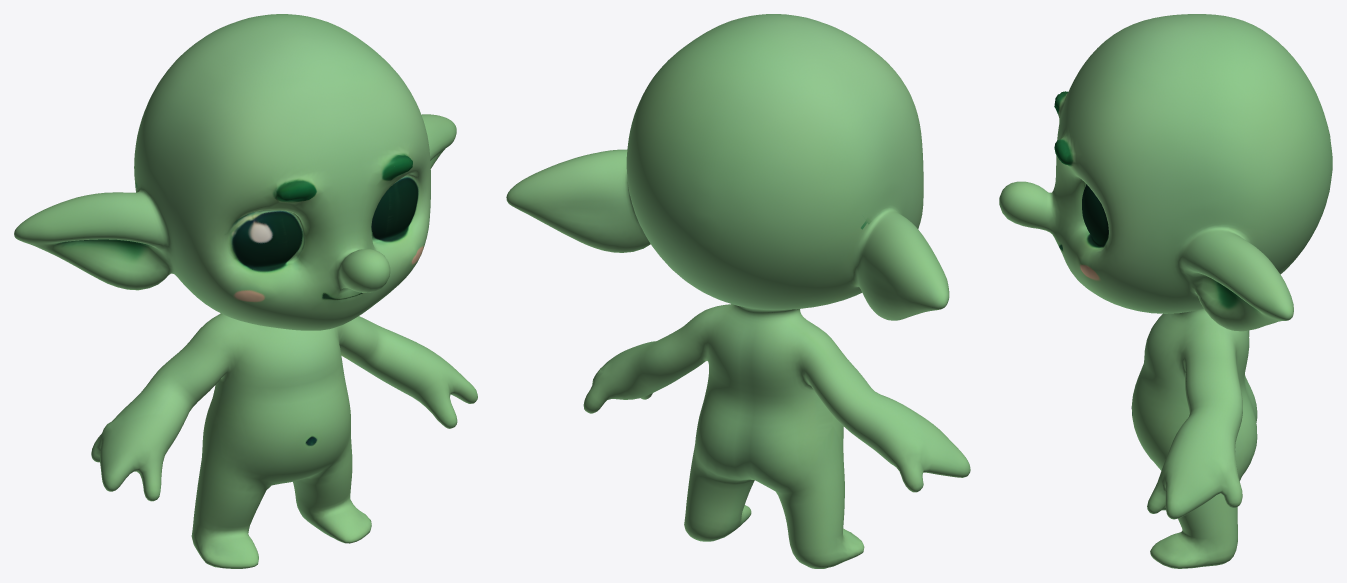
The model's file is gobelin_cartoon_3d_-_personnage_vert.glb.
3 renders of one model, left to right at view 1: azimuth 30°, elevation 25°; view 2: azimuth 150°, elevation 25°; view 3: azimuth 270°, elevation 25°, orthographic.
Parts seen in each view (by area): view 1: Object_2; view 2: Object_2; view 3: Object_2.
Boxes of the visible parts, x1,y1,x2,y2 form: Object_2: [14, 14, 477, 568]; Object_2: [506, 14, 970, 568]; Object_2: [999, 14, 1332, 568].
Bounding box in the file's own units: 1.69 × 1.9 × 1.13.
1 material, 1 textured.
